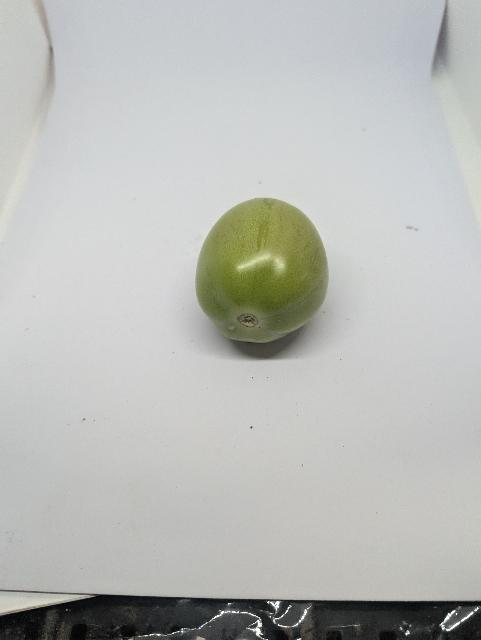green: (193, 195, 333, 346)
